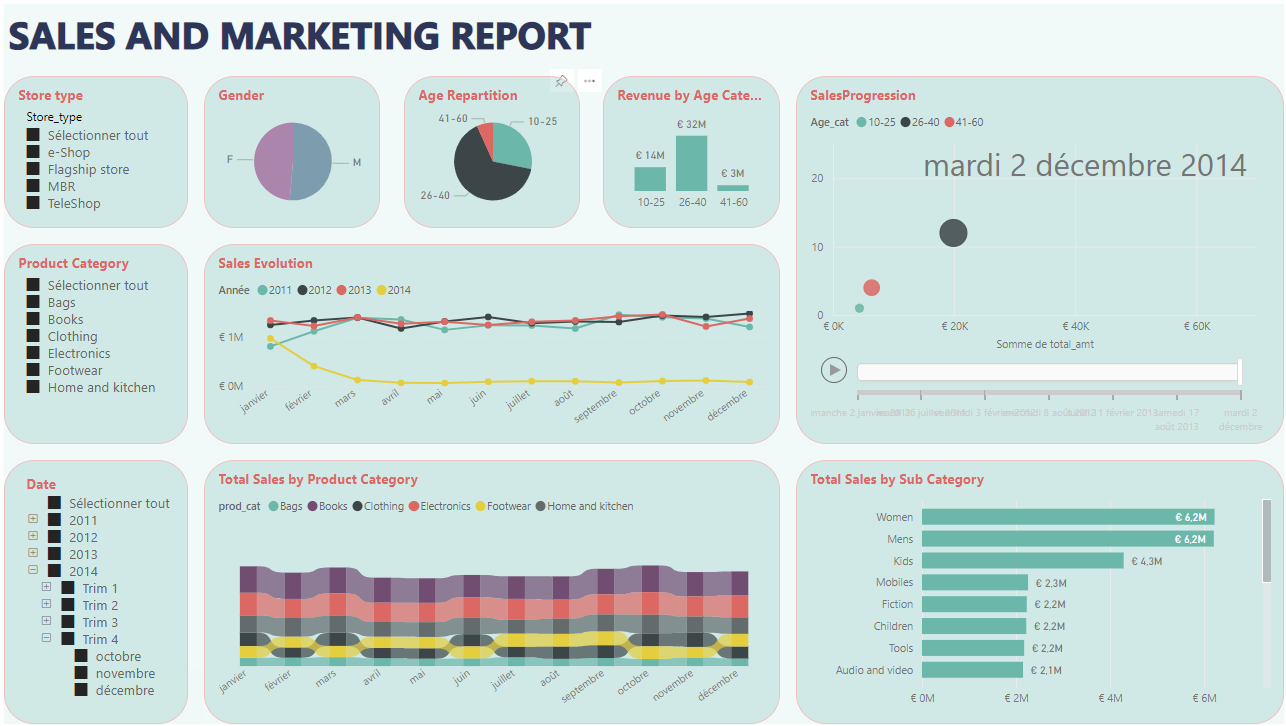

This screenshot's page, from the dashboard's own definition file:
{"tool":"powerbi","page":{"name":"Page 2/2","canvas":[1280,720],"ordinal":1},"visuals":[{"type":"slicer","fields":{"Values":["df_customer_analysis.tran_date.Variation.Hiérarchie de dates.Année","df_customer_analysis.tran_date.Variation.Hiérarchie de dates.Trimestre","df_customer_analysis.tran_date.Variation.Hiérarchie de dates.Mois"]},"box":[0,456,184,264],"z":0},{"type":"textbox","box":[0,0,599,64],"z":1000},{"type":"barChart","title":"Total Sales by Sub Category","fields":{"Category":["df_customer_analysis.prod_subcat"],"Y":["Sum(df_customer_analysis.total_amt)"]},"box":[792,456,488,264],"z":2000},{"type":"lineChart","title":"Sales Evolution","fields":{"Category":["df_customer_analysis.tran_date.Variation.Hiérarchie de dates.Mois"],"Y":["Sum(df_customer_analysis.total_amt)"],"Series":["df_customer_analysis.tran_date.Variation.Hiérarchie de dates.Année"]},"box":[200,240,576,200],"z":3000},{"type":"ribbonChart","title":"Total Sales by Product Category","fields":{"Category":["df_customer_analysis.tran_date.Variation.Hiérarchie de dates.Mois"],"Series":["df_customer_analysis.prod_cat"],"Y":["Sum(df_customer_analysis.total_amt)"]},"box":[200,456,576,264],"z":4000},{"type":"slicer","title":"Store type","fields":{"Values":["df_customer_analysis.Store_type"]},"box":[0,72,184,152],"z":5000},{"type":"slicer","title":"Product Category","fields":{"Values":["df_customer_analysis.prod_cat"]},"box":[0,240,184,200],"z":6000},{"type":"pieChart","title":"Age Repartition","fields":{"Category":["df_customer_analysis.Age_cat"],"Y":["Sum(df_customer_analysis.total_amt)"]},"box":[400,72,176,152],"z":7000},{"type":"scatterChart","title":"SalesProgression","fields":{"Category":["df_customer_analysis.tran_date.Variation.Hiérarchie de dates.Année","df_customer_analysis.tran_date.Variation.Hiérarchie de dates.Mois"],"Series":["df_customer_analysis.Age_cat"],"X":["Sum(df_customer_analysis.total_amt)"],"Size":["CountNonNull(df_customer_analysis.transaction_id)"],"Play":["df_customer_analysis.tran_date"],"Y":["CountNonNull(df_customer_analysis.transaction_id)"]},"box":[792,72,488,368],"z":8000},{"type":"pieChart","title":"Gender","fields":{"Y":["Sum(df_customer_analysis.total_amt)"],"Category":["df_customer_analysis.Gender"]},"box":[200,72,176,152],"z":9000},{"type":"clusteredColumnChart","title":"Revenue by Age Categories","fields":{"Y":["Sum(df_customer_analysis.total_amt)"],"Category":["df_customer_analysis.Age_cat"]},"box":[599,72,177,152],"z":10000}]}

Visuals, with their boxes in screenshot pixels (x1, y1, x2, y2), scaled from the page's 1280x720 canvas onto the 1286x726 screenshot:
slicer - df_customer_analysis.tran_date.Variation.Hiérarchie de dates.Année x df_customer_analysis.tran_date.Variation.Hiérarchie de dates.Trimestre: <box>0,460,185,725</box>
textbox: <box>0,0,602,65</box>
"Total Sales by Sub Category" barChart: <box>796,460,1285,725</box>
"Sales Evolution" lineChart: <box>201,242,780,444</box>
"Total Sales by Product Category" ribbonChart: <box>201,460,780,725</box>
"Store type" slicer: <box>0,73,185,226</box>
"Product Category" slicer: <box>0,242,185,444</box>
"Age Repartition" pieChart: <box>402,73,579,226</box>
"SalesProgression" scatterChart: <box>796,73,1285,444</box>
"Gender" pieChart: <box>201,73,378,226</box>
"Revenue by Age Categories" clusteredColumnChart: <box>602,73,780,226</box>
